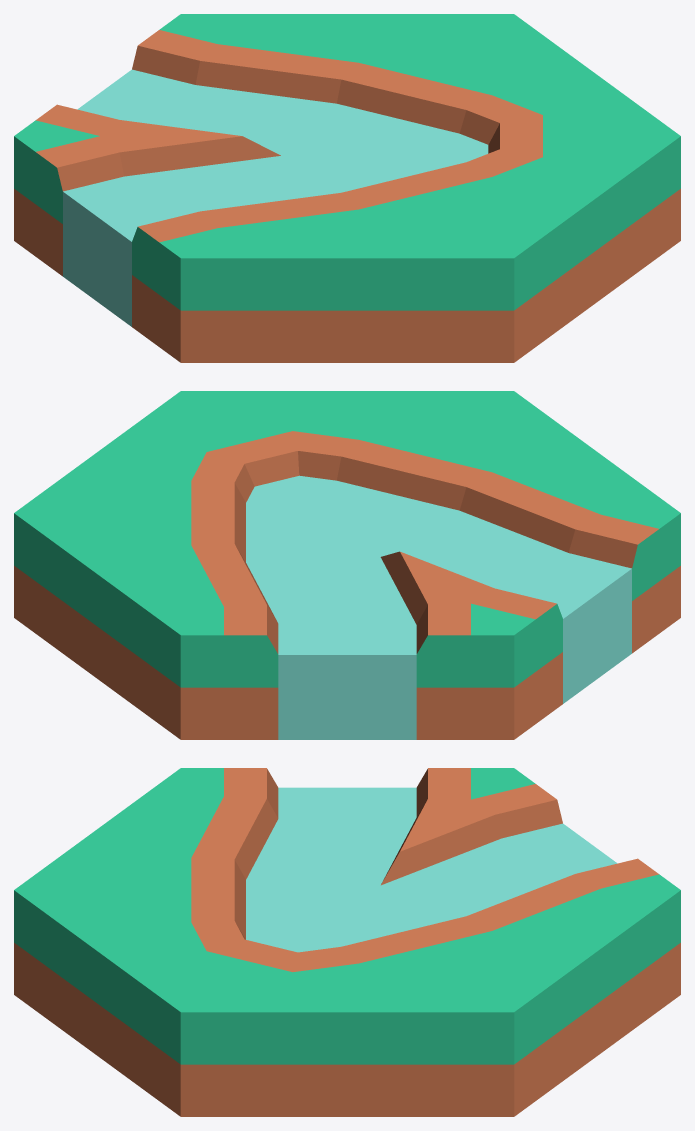
File: river_cornerSharp.fbx
3 renders of one model, top to bottom at view 1: azimuth 30°, elevation 25°; view 2: azimuth 150°, elevation 25°; view 3: azimuth 270°, elevation 25°, orthographic.
Visible parts, largest first — view 1: river_cornerSharp; view 2: river_cornerSharp; view 3: river_cornerSharp.
Boxes of the visible parts, <box> form: river_cornerSharp: <box>14,14,680,362</box>; river_cornerSharp: <box>14,391,680,739</box>; river_cornerSharp: <box>14,768,680,1116</box>.
Size of the model in its own units: 10 by 2 by 11.55.
